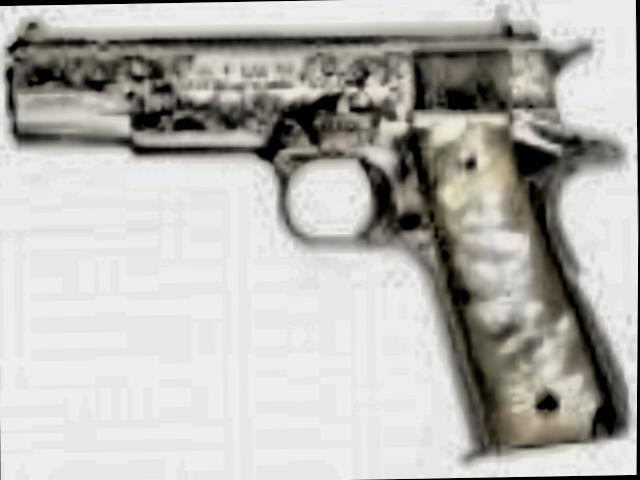pistol: (0, 2, 628, 462)
